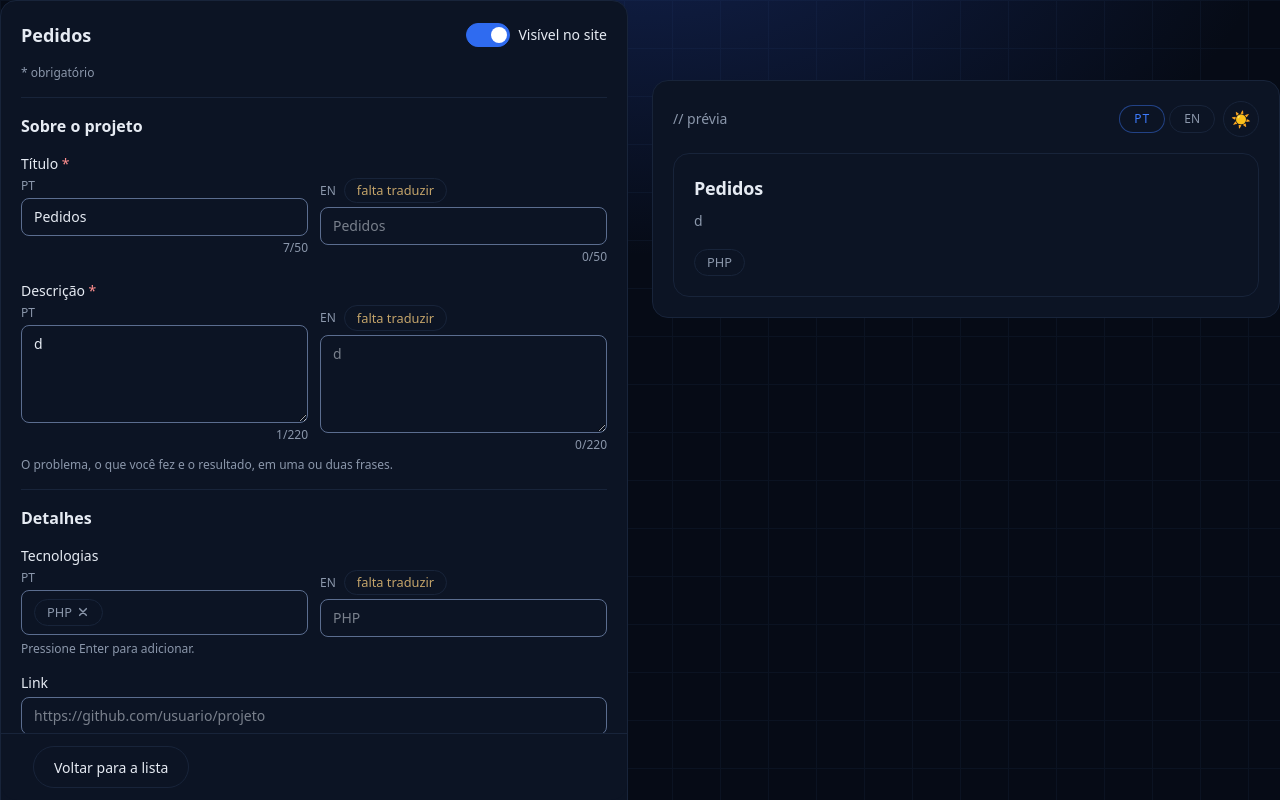
it: ItemEditor existente › erro do servidor aparece junto ao campo e o status pede correção
Replace the text in the field named "Título em português" with "x". click: (164,217)
box: [21,198,308,236]
Wait 800 ms
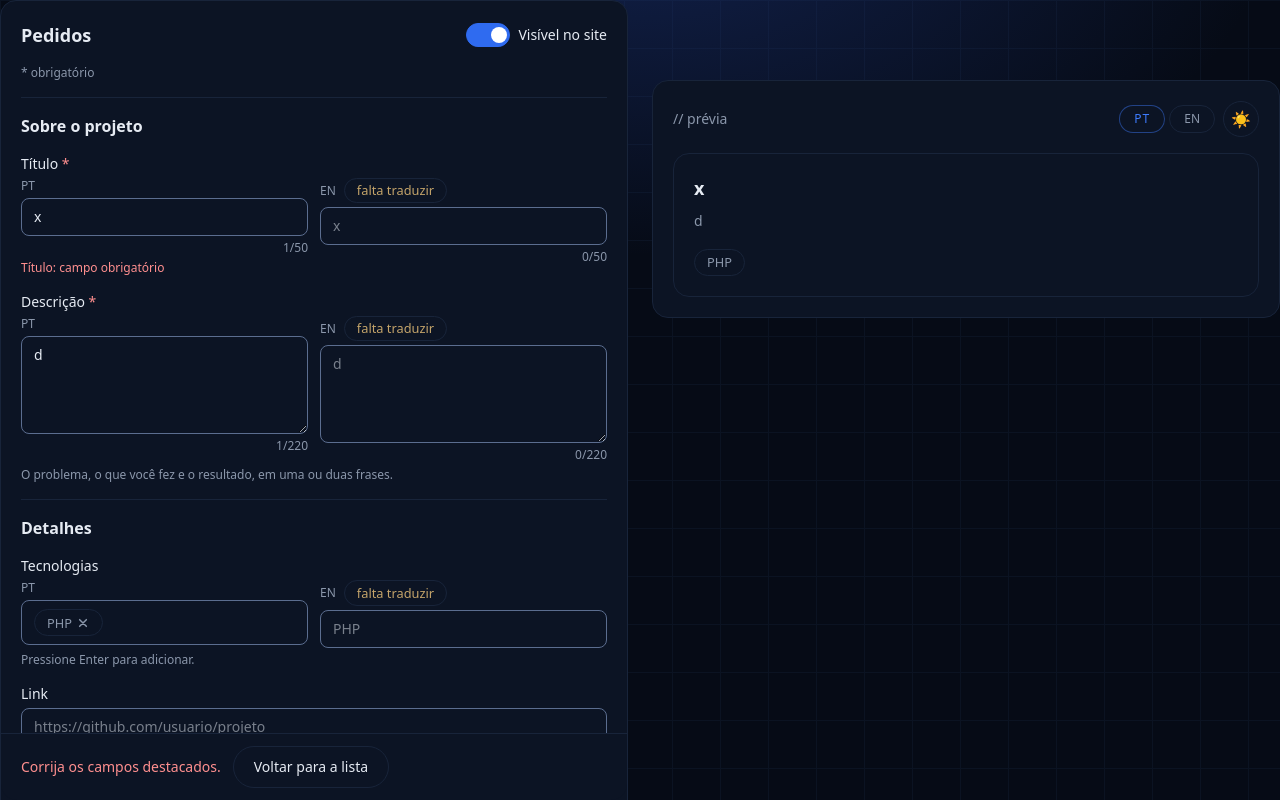
Check: the text "Título: campo obrigatório" is shown, box [21,259,164,276]
Check: the text "Corrija os campos destacados." is shown, box [21,757,221,777]
